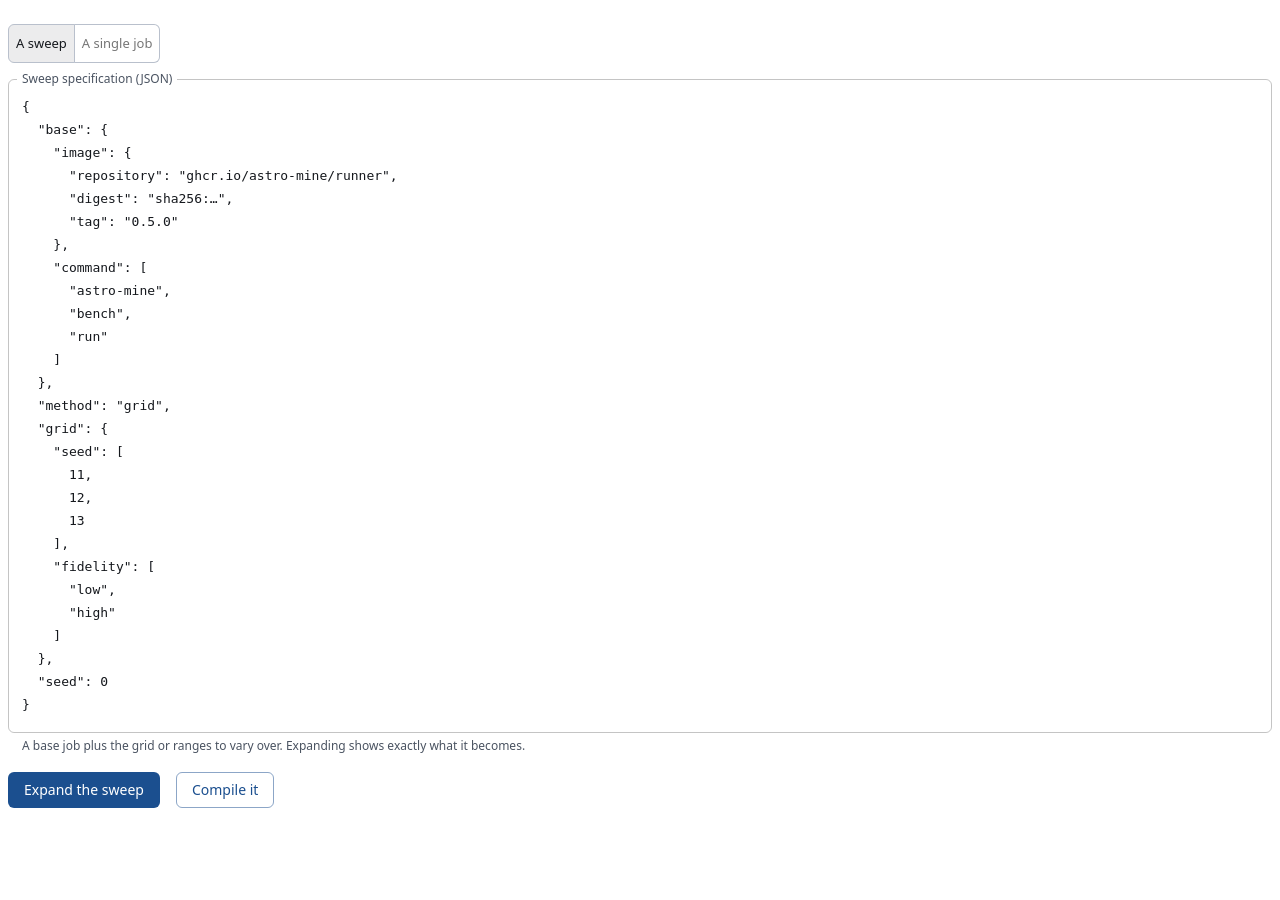
expanding a sweep › says an expansion of nothing is nothing
The width and height of the screenshot is (1280, 900).
What coordinates should you click on to do the following:
click the button "Expand the sweep"
I would click on:
 (84, 790)
Its box is [8,772,160,808].
(page scrolled)
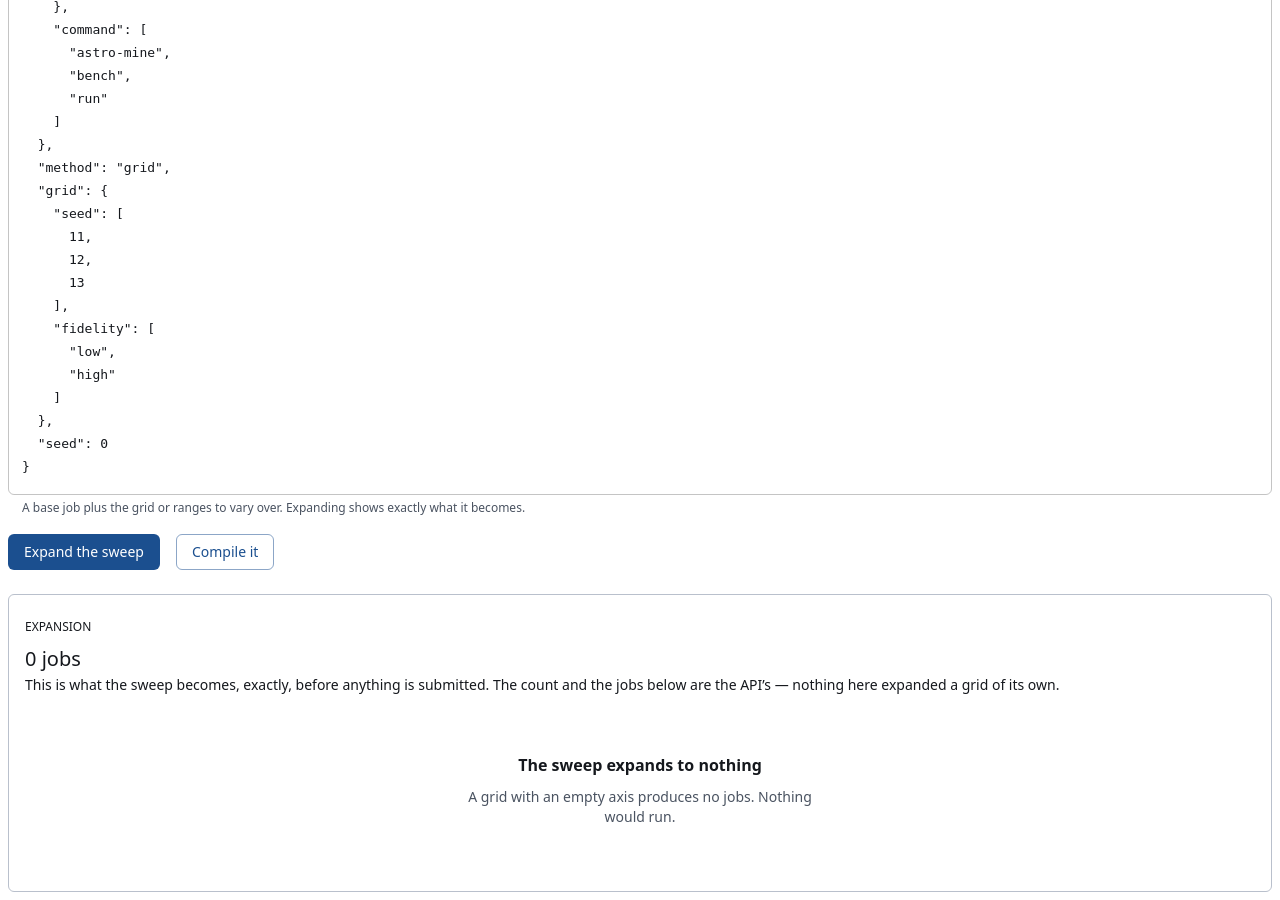
Expected: the text "The sweep expands to nothing" is shown, [518,751,762,779]
